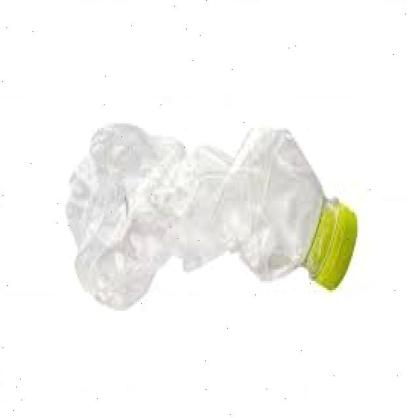bottle: (69, 111, 355, 318)
cap: (306, 196, 361, 297)
